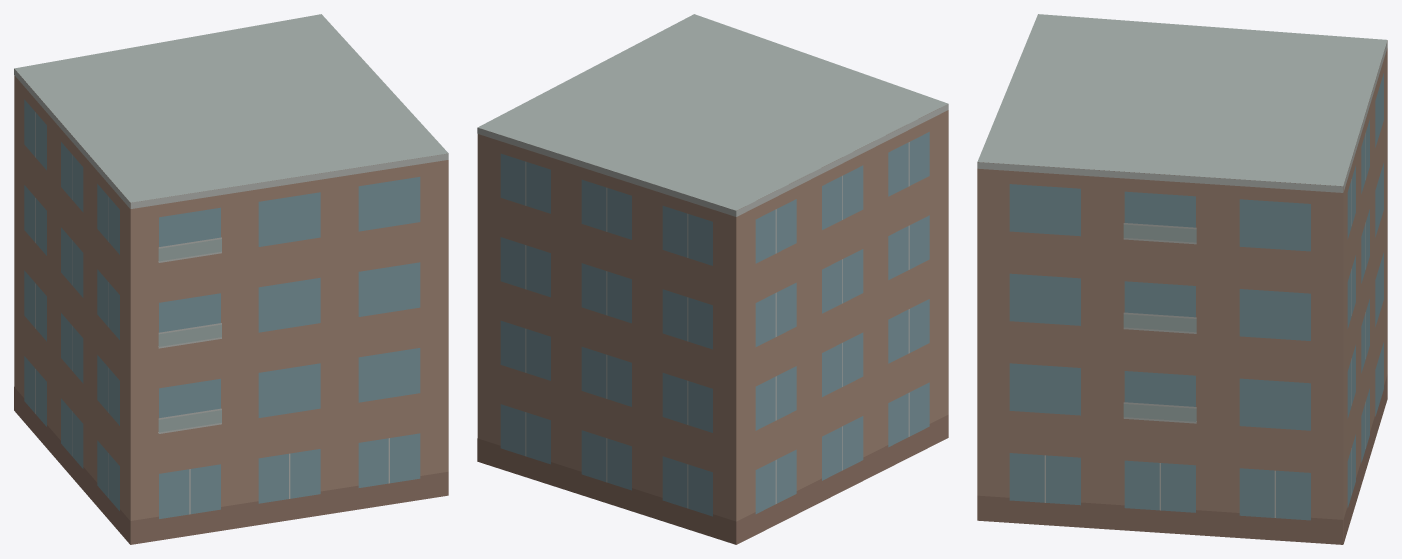
The model's file is survey-upis-32746394.glb.
3 views of the same model, side by side, from view 1: azimuth 30°, elevation 25°; view 2: azimuth 150°, elevation 25°; view 3: azimuth 270°, elevation 25° (orthographic). The views are drawn at different scales.
Parts seen in each view (by area): view 1: survey-upis-32746394.tmp; view 2: survey-upis-32746394.tmp; view 3: survey-upis-32746394.tmp.
Part boxes in pixels (x1=…): survey-upis-32746394.tmp: x1=14, y1=14, x2=448, y2=544; survey-upis-32746394.tmp: x1=477, y1=14, x2=948, y2=544; survey-upis-32746394.tmp: x1=977, y1=14, x2=1387, y2=544.
Size of the model in its own units: 13.4 by 13 by 13.49.
